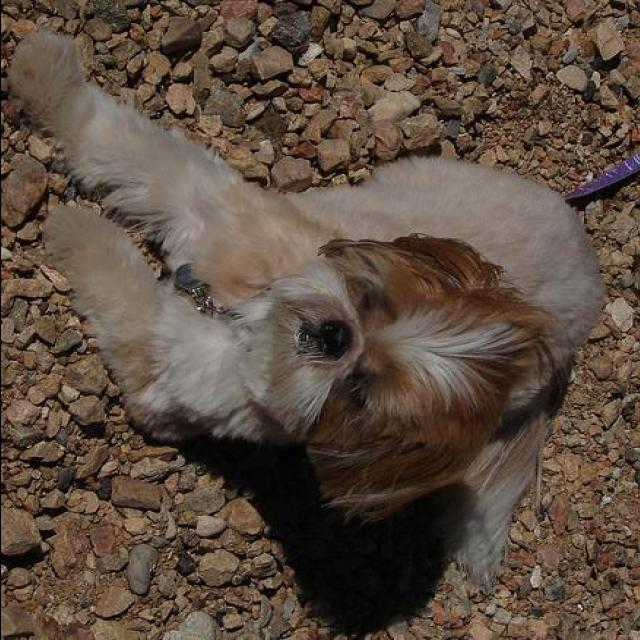shih_tzu: (16, 34, 604, 582)
